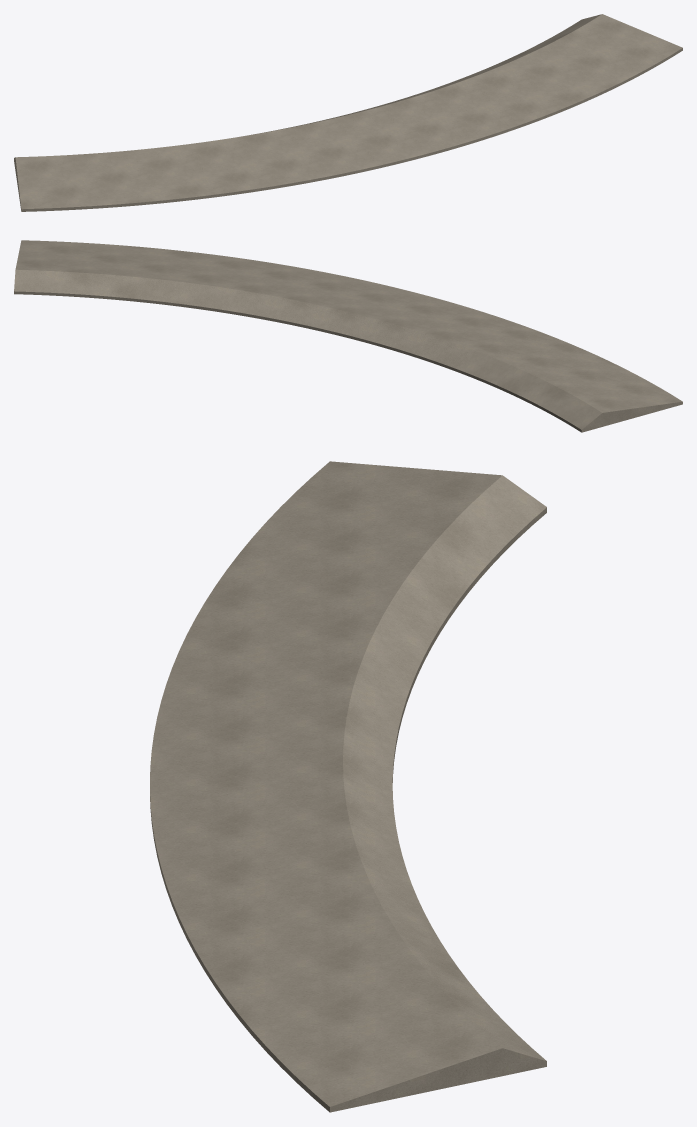
The model's file is ramp_0.glb.
3 views of the same model, one above another, from view 1: azimuth 30°, elevation 25°; view 2: azimuth 150°, elevation 25°; view 3: azimuth 270°, elevation 25° (orthographic). The views are drawn at different scales.
Parts seen in each view (by area): view 1: ramp_0_gravel_r; view 2: ramp_0_gravel_r; view 3: ramp_0_gravel_r.
Part boxes in pixels (x1=…): ramp_0_gravel_r: x1=14, y1=14, x2=682, y2=211; ramp_0_gravel_r: x1=14, y1=240, x2=682, y2=432; ramp_0_gravel_r: x1=150, y1=461, x2=546, y2=1112.
Size of the model in its own units: 27.69 by 0.56 by 7.2.
1 material, 1 textured.
